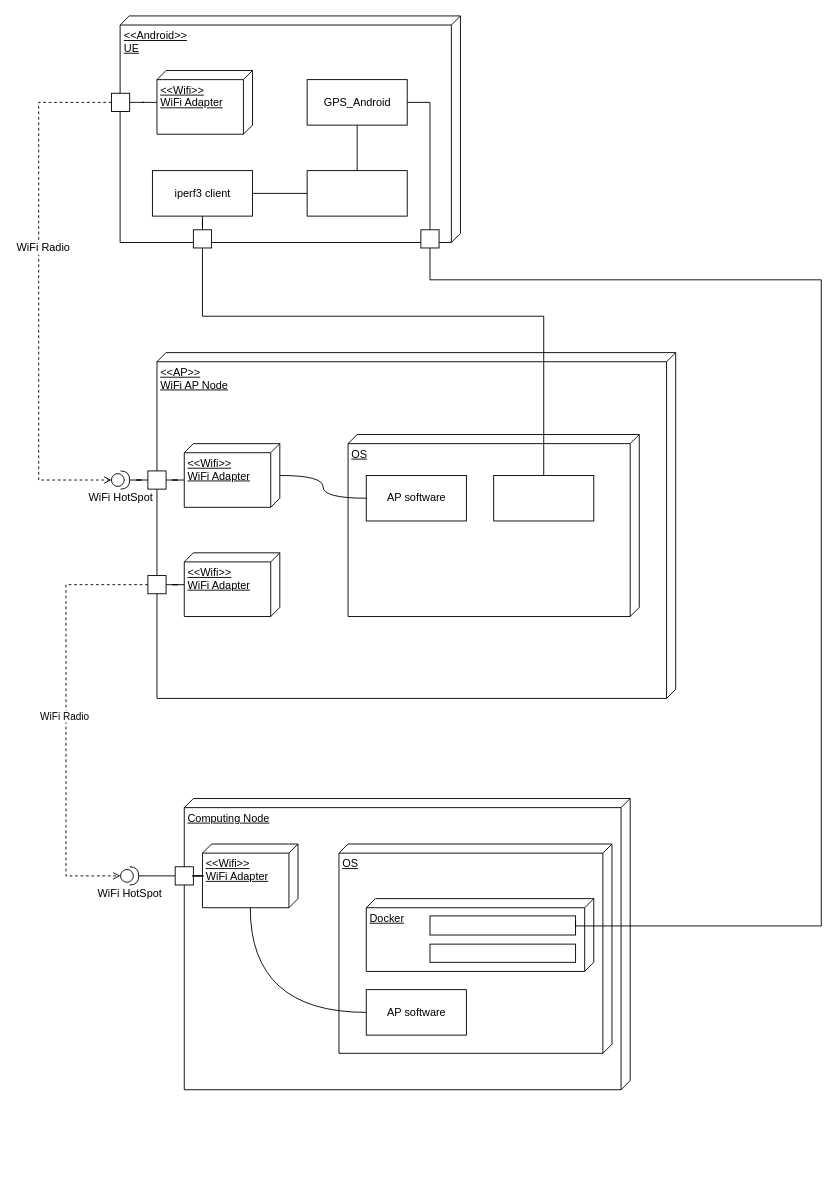
Some shapes in this 838 by 1195 pixel diagram are drawn without their labels. The centre of each missing label's shape, as x and y in pixels:
GPS_Frontend: the point at 502,952
GPS_Tracker: the point at 502,925
iperf3 server: the point at 543,498
Local Storage: the point at 356,193
